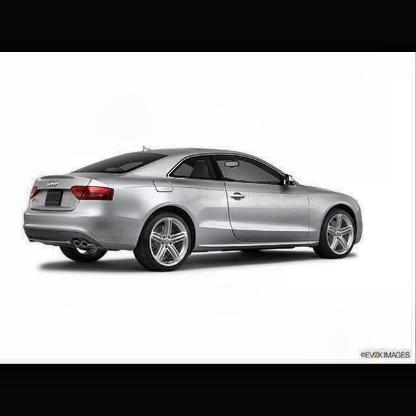Audi S5 Coupe 2012: (25, 148, 364, 275)
